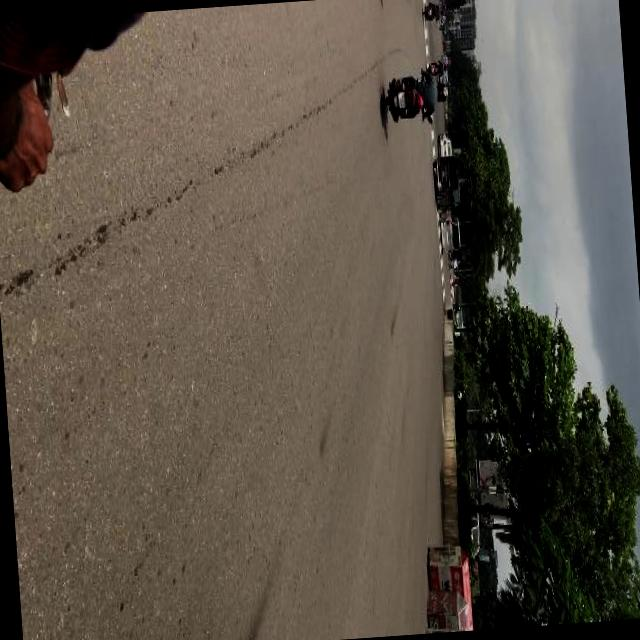bus: (442, 36, 452, 50)
car: (437, 129, 452, 155), (452, 298, 462, 325)
motorcycle: (378, 65, 432, 126), (420, 0, 444, 21), (425, 57, 447, 74)
truck: (432, 152, 462, 209), (438, 208, 460, 252)
